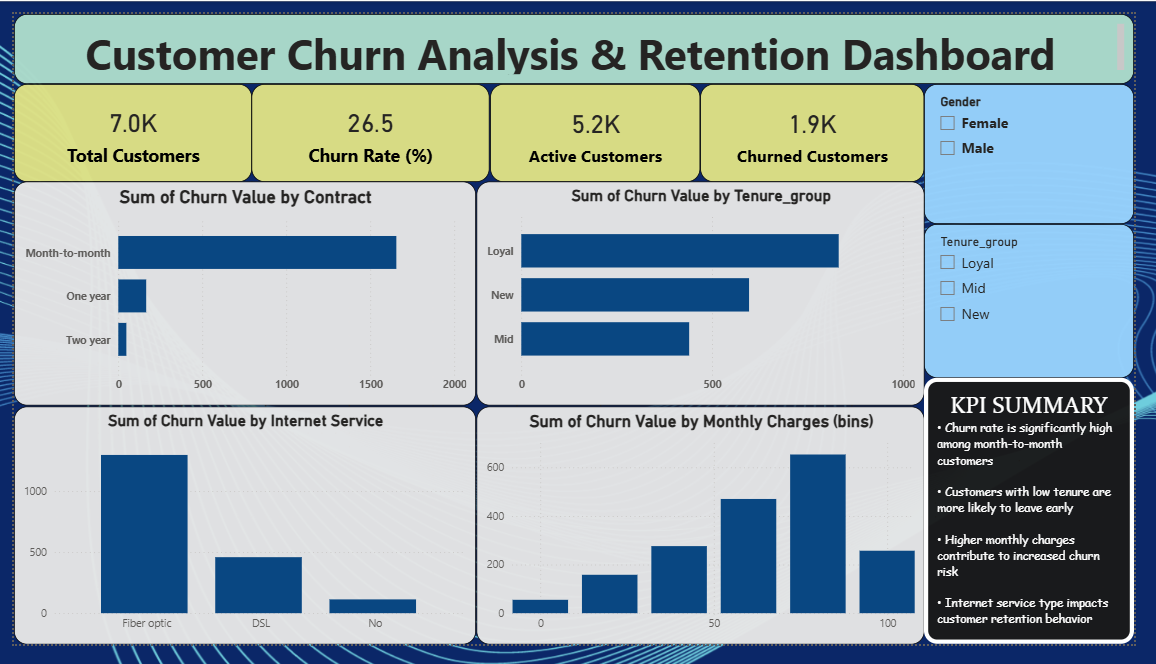

What the dashboard file says about the page in this screenshot:
{"tool":"powerbi","page":{"name":"Page 1","canvas":[1280,720],"ordinal":0},"visuals":[{"type":"textbox","box":[0,0,1280,80],"z":0},{"type":"card","title":"Churned Customers","fields":{"Values":["Sum(churnproject cleaned_churn.Count)"]},"box":[0,80,272,112],"z":1000},{"type":"card","fields":{"Values":["Sum(churnproject cleaned_churn.Churn Value)"]},"box":[784,80,256,112],"z":2000},{"type":"card","fields":{"Values":["churnproject cleaned_churn.Churn Rate (%)"]},"box":[272,80,272,112],"z":3000},{"type":"card","fields":{"Values":["churnproject cleaned_churn.Active Customers"]},"box":[544,80,240,112],"z":4000},{"type":"clusteredBarChart","fields":{"Category":["churnproject cleaned_churn.Contract"],"Y":["Sum(churnproject cleaned_churn.Churn Value)"]},"box":[0,192,528,256],"z":5000},{"type":"barChart","fields":{"Category":["churnproject cleaned_churn.Tenure_group"],"Y":["Sum(churnproject cleaned_churn.Churn Value)"]},"box":[528,192,512,256],"z":6000},{"type":"columnChart","fields":{"Category":["churnproject cleaned_churn.Internet Service"],"Y":["Sum(churnproject cleaned_churn.Churn Value)"]},"box":[0,448,528,272],"z":7000},{"type":"clusteredColumnChart","fields":{"Y":["Sum(churnproject cleaned_churn.Churn Value)"],"Category":["churnproject cleaned_churn.Monthly Charges (bins)"]},"box":[528,448,512,272],"z":8000},{"type":"slicer","fields":{"Values":["churnproject cleaned_churn.Gender"]},"box":[1040,80,240,160],"z":9000},{"type":"slicer","fields":{"Values":["churnproject cleaned_churn.Tenure_group"]},"box":[1040,240,240,176],"z":10000},{"type":"textbox","box":[1040,416,240,304],"z":12000}]}

Visuals, with their boxes in screenshot pixels (x1, y1, x2, y2), scaled from the page's 1280x720 canvas onto the 1156x664 screenshot:
textbox: 0:0:1155:74
"Churned Customers" card: 0:74:246:177
card - Sum(churnproject cleaned_churn.Churn Value): 708:74:939:177
card - churnproject cleaned_churn.Churn Rate (%): 246:74:491:177
card - churnproject cleaned_churn.Active Customers: 491:74:708:177
clusteredBarChart - churnproject cleaned_churn.Contract x Sum(churnproject cleaned_churn.Churn Value): 0:177:477:413
barChart - churnproject cleaned_churn.Tenure_group x Sum(churnproject cleaned_churn.Churn Value): 477:177:939:413
columnChart - churnproject cleaned_churn.Internet Service x Sum(churnproject cleaned_churn.Churn Value): 0:413:477:663
clusteredColumnChart - Sum(churnproject cleaned_churn.Churn Value) x churnproject cleaned_churn.Monthly Charges (bins): 477:413:939:663
slicer - churnproject cleaned_churn.Gender: 939:74:1155:221
slicer - churnproject cleaned_churn.Tenure_group: 939:221:1155:384
textbox: 939:384:1155:663
